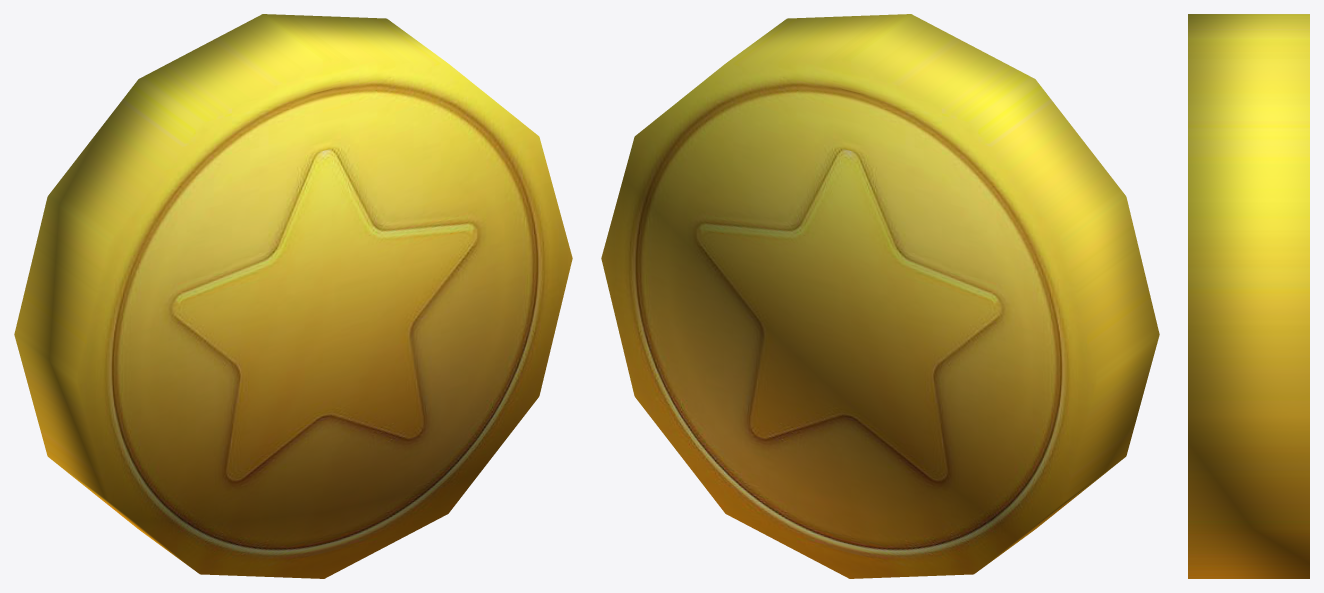
File: Coins.fbx
3 views of the same model, side by side, from view 1: azimuth 30°, elevation 25°; view 2: azimuth 150°, elevation 25°; view 3: azimuth 270°, elevation 25° (orthographic).
Visible parts, largest first — view 1: pCylinder1; view 2: pCylinder1; view 3: pCylinder1.
Part boxes in pixels (box(x1,y1,x2,y2)): pCylinder1: box(14, 14, 572, 578); pCylinder1: box(601, 14, 1159, 578); pCylinder1: box(1188, 14, 1309, 578).
Bounding box in the file's own units: 8.85 × 8.85 × 1.9.
